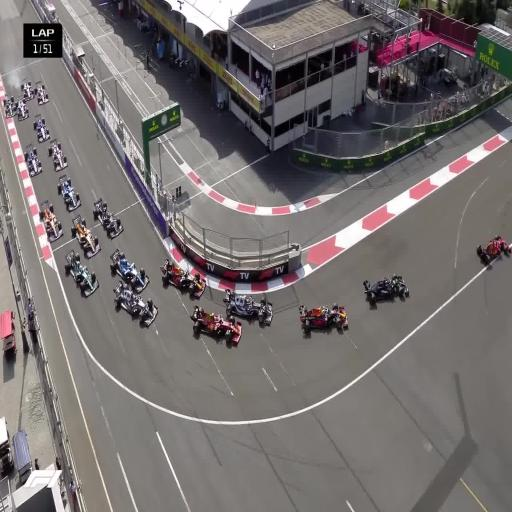f1_car: (190, 305, 242, 345), (113, 281, 157, 326), (110, 248, 149, 293), (160, 259, 206, 297), (223, 290, 272, 325), (65, 250, 99, 296), (299, 303, 348, 332), (363, 274, 409, 303), (71, 214, 101, 258), (93, 197, 123, 238), (39, 199, 63, 242), (477, 236, 511, 263), (57, 174, 81, 211), (48, 139, 67, 171), (24, 144, 42, 176), (33, 113, 50, 142), (20, 77, 35, 101), (3, 93, 17, 117), (16, 96, 29, 120), (35, 81, 48, 105)
